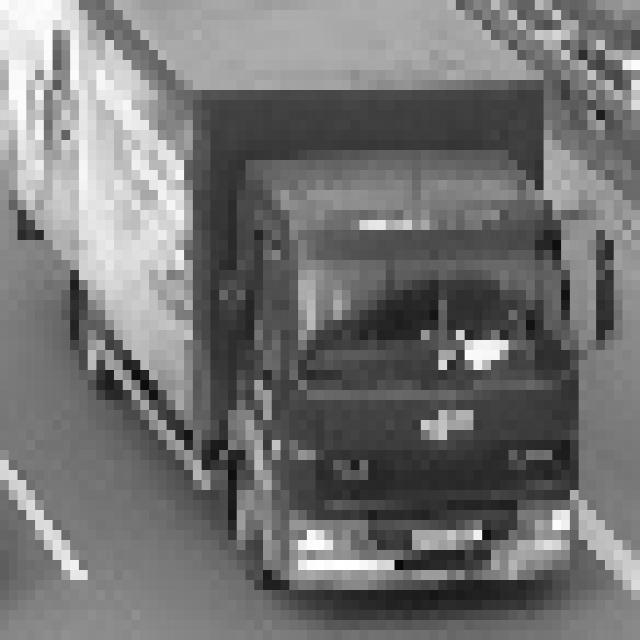truck: (203, 111, 625, 602)
